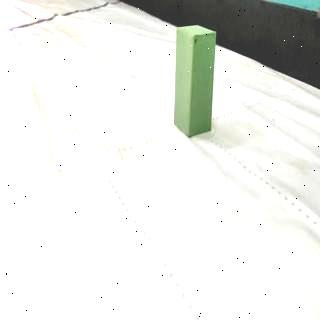greenbox: (176, 24, 215, 137)
